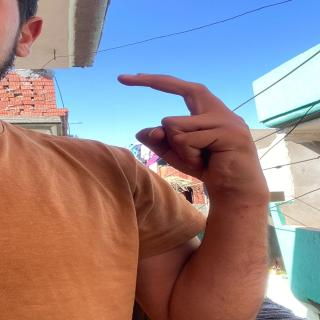ZAY: (106, 63, 282, 188)
